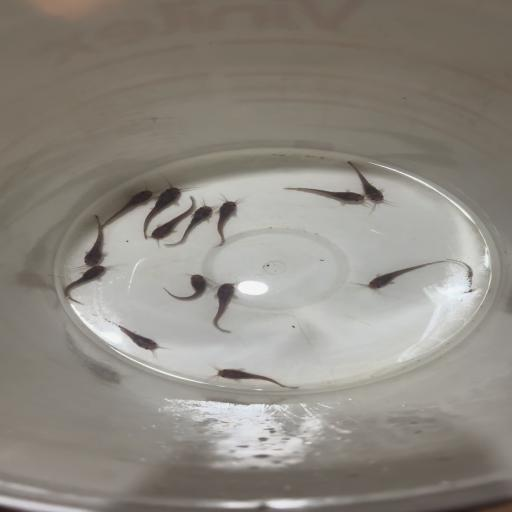lele: (86, 312, 169, 357), (358, 260, 449, 292), (132, 185, 184, 241), (206, 362, 302, 390), (346, 159, 397, 208), (146, 195, 199, 241), (166, 204, 216, 250), (58, 265, 111, 305), (72, 214, 112, 267), (101, 186, 153, 226), (282, 184, 367, 208), (211, 279, 241, 337), (445, 256, 481, 304), (159, 272, 210, 303), (213, 194, 242, 248)
